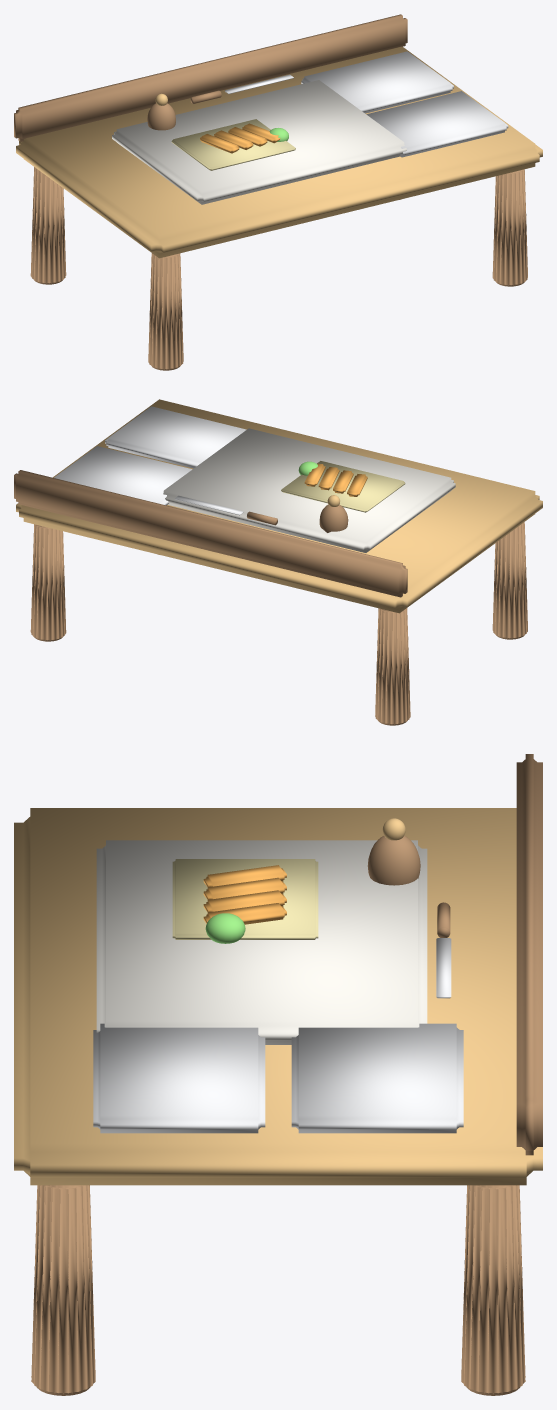
Rendered from Station_SlicingTable.fbx.
The picture shows the model from 3 angles, top to bottom: view 1: azimuth 30°, elevation 25°; view 2: azimuth 150°, elevation 25°; view 3: azimuth 270°, elevation 25°; orthographic projection. The views are drawn at different scales.
Visible parts, largest first — view 1: Tabletop, Board, Backsplash, Tray1, Tray2, Leg_-1.1_-0.65, Leg_1.1_-0.65, Leg_-1.1_0.65, BambooMat, SoyJug; view 2: Tabletop, Board, Backsplash, Tray1, Tray2, Leg_-1.1_0.65, Leg_1.1_0.65, Leg_-1.1_-0.65, BambooMat, SoyJug; view 3: Tabletop, Board, Tray2, Tray1, Leg_1.1_-0.65, Leg_1.1_0.65, Backsplash, BambooMat, SoyJug, Sashimi_1, Sashimi_0, Sashimi_2 (+3 smaller).
Boxes of the visible parts, x1,y1,x2,y2 form: Tabletop: [16, 46, 542, 258]; Board: [112, 80, 406, 204]; Backsplash: [14, 14, 407, 141]; Tray1: [366, 91, 508, 157]; Tray2: [301, 51, 453, 113]; Leg_-1.1_-0.65: [148, 253, 183, 370]; Leg_1.1_-0.65: [492, 169, 527, 286]; Leg_-1.1_0.65: [30, 167, 66, 284]; BambooMat: [171, 119, 295, 170]; SoyJug: [147, 103, 175, 130]; Tabletop: [16, 399, 542, 613]; Board: [163, 428, 455, 552]; Backsplash: [14, 470, 407, 597]; Tray1: [105, 406, 246, 468]; Tray2: [54, 446, 192, 505]; Leg_-1.1_0.65: [375, 608, 410, 725]; Leg_1.1_0.65: [30, 524, 66, 641]; Leg_-1.1_-0.65: [492, 522, 527, 639]; BambooMat: [281, 461, 405, 512]; SoyJug: [319, 504, 348, 532]; Tabletop: [14, 808, 542, 1185]; Board: [96, 840, 427, 1044]; Tray2: [291, 1023, 463, 1133]; Tray1: [93, 1023, 265, 1133]; Leg_1.1_-0.65: [31, 1185, 95, 1395]; Leg_1.1_0.65: [461, 1185, 525, 1395]; Backsplash: [516, 754, 542, 1155]; BambooMat: [172, 859, 318, 939]; SoyJug: [367, 835, 420, 885]; Sashimi_1: [203, 877, 286, 899]; Sashimi_0: [203, 865, 286, 887]; Sashimi_2: [203, 890, 286, 912].
Bounding box in the file's own units: 2.5 × 1.12 × 1.6.
